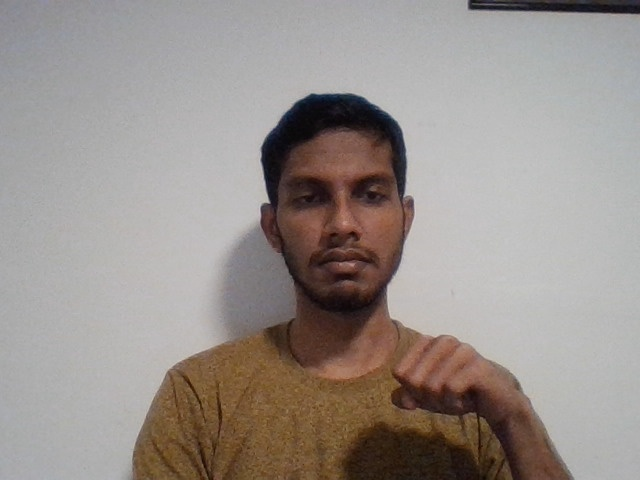yes: (374, 321, 564, 440)
